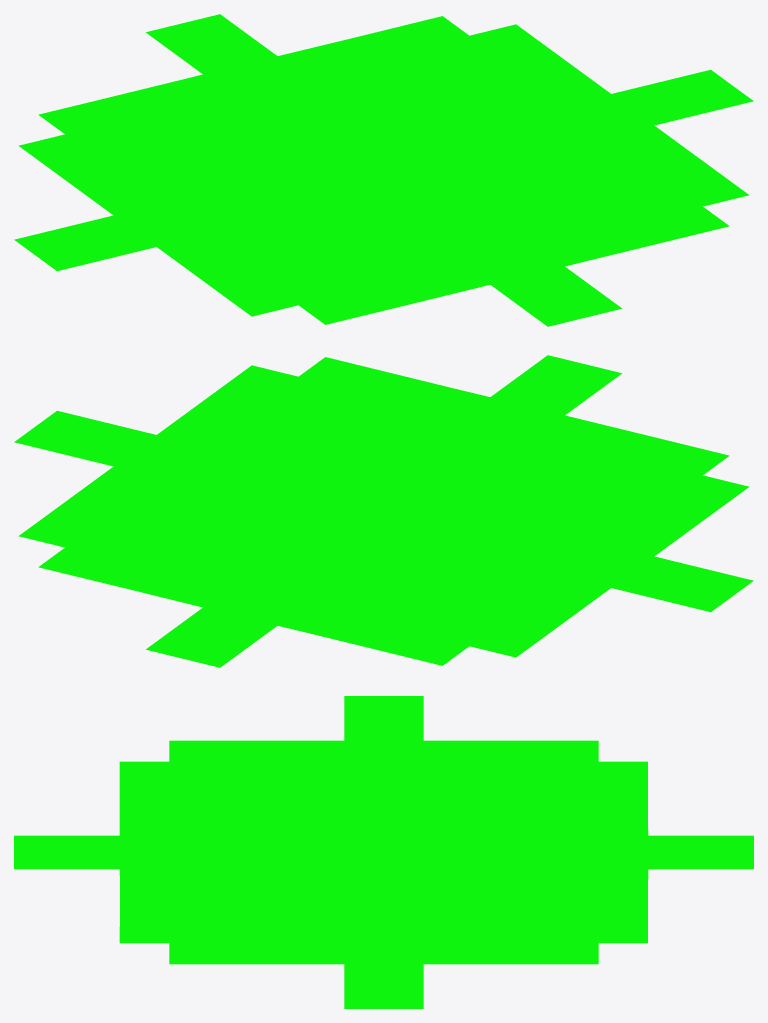
Rendered from s04b_xb2-floor.glb.
The picture shows the model from 3 angles, top to bottom: view 1: azimuth 30°, elevation 25°; view 2: azimuth 150°, elevation 25°; view 3: azimuth 270°, elevation 25°; orthographic projection. The views are drawn at different scales.
Parts seen in each view (by area): view 1: collision_floor-colonly; view 2: collision_floor-colonly; view 3: collision_floor-colonly.
Boxes of the visible parts, bbox=[...] form: collision_floor-colonly: bbox=[14, 14, 753, 326]; collision_floor-colonly: bbox=[14, 355, 753, 667]; collision_floor-colonly: bbox=[14, 696, 753, 1008].
Bounding box in the file's own units: 56 × 0 × 56.
